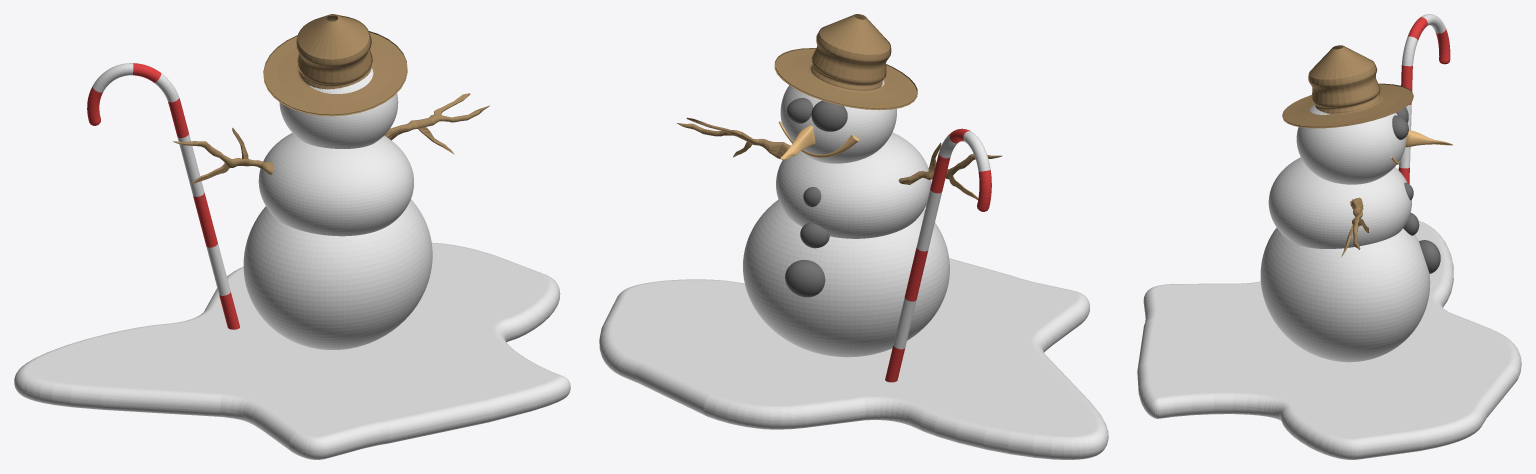
Rendered from Winter.glb.
3 renders of one model, left to right at view 1: azimuth 30°, elevation 25°; view 2: azimuth 150°, elevation 25°; view 3: azimuth 270°, elevation 25°, orthographic. The views are drawn at different scales.
Visible parts, largest first — view 1: Extrude, Sphere, Sphere.1, Lathe, Sphere.2, Sweep.1-Mat, Sweep.1-Mat.1, Capsule, Capsule.1; view 2: Extrude, Sphere, Sphere.1, Lathe, Sphere.2, Sweep.1-Mat, Sweep.1-Mat.1, Sphere.7, Capsule, Capsule.1, Sphere.3, Sphere.6 (+2 smaller); view 3: Extrude, Sphere, Sphere.1, Lathe, Sphere.2, Sweep.1-Mat, Sweep.1-Mat.1, Capsule, Sphere.7, Capsule.2.
Part boxes in pixels (bbox=[...]): Extrude: bbox=[14, 242, 570, 459]; Sphere: bbox=[243, 199, 432, 349]; Sphere.1: bbox=[258, 133, 413, 236]; Lathe: bbox=[263, 14, 407, 116]; Sphere.2: bbox=[279, 68, 398, 148]; Sweep.1-Mat: bbox=[87, 63, 239, 329]; Sweep.1-Mat.1: bbox=[92, 63, 230, 295]; Capsule: bbox=[384, 93, 489, 154]; Capsule.1: bbox=[173, 128, 273, 184]; Extrude: bbox=[599, 258, 1108, 459]; Sphere: bbox=[743, 199, 949, 357]; Sphere.1: bbox=[776, 132, 931, 238]; Lathe: bbox=[774, 14, 917, 110]; Sphere.2: bbox=[780, 80, 896, 163]; Sweep.1-Mat: bbox=[885, 128, 991, 382]; Sweep.1-Mat.1: bbox=[893, 131, 990, 349]; Sphere.7: bbox=[785, 260, 825, 297]; Capsule: bbox=[677, 117, 790, 159]; Capsule.1: bbox=[898, 142, 1002, 199]; Sphere.3: bbox=[811, 100, 847, 131]; Sphere.6: bbox=[800, 222, 829, 248]; Extrude: bbox=[1137, 221, 1521, 459]; Sphere: bbox=[1260, 227, 1430, 362]; Sphere.1: bbox=[1268, 157, 1411, 248]; Lathe: bbox=[1282, 45, 1413, 128]; Sphere.2: bbox=[1296, 104, 1406, 184]; Sweep.1-Mat: bbox=[1398, 17, 1450, 183]; Sweep.1-Mat.1: bbox=[1399, 14, 1445, 168]; Capsule: bbox=[1341, 197, 1368, 256]; Sphere.7: bbox=[1419, 240, 1440, 273]; Capsule.2: bbox=[1405, 130, 1452, 147].
Bounding box in the file's own units: 573 × 368 × 408.
